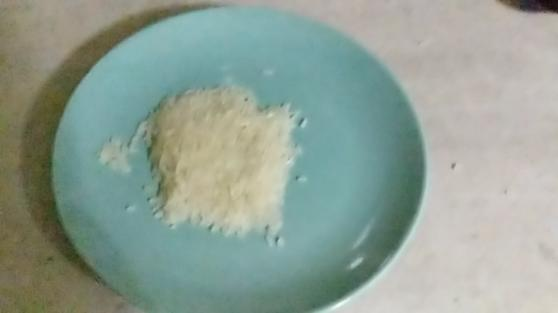rice: (122, 76, 313, 254)
